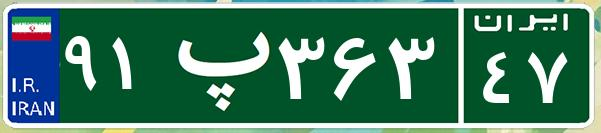1: (110, 28, 158, 105)
3: (385, 28, 445, 110), (273, 28, 330, 110)
4: (475, 38, 525, 113)
6: (330, 28, 385, 110)
7: (525, 38, 570, 115)
9: (57, 26, 110, 107)
پ: (158, 15, 273, 115)
